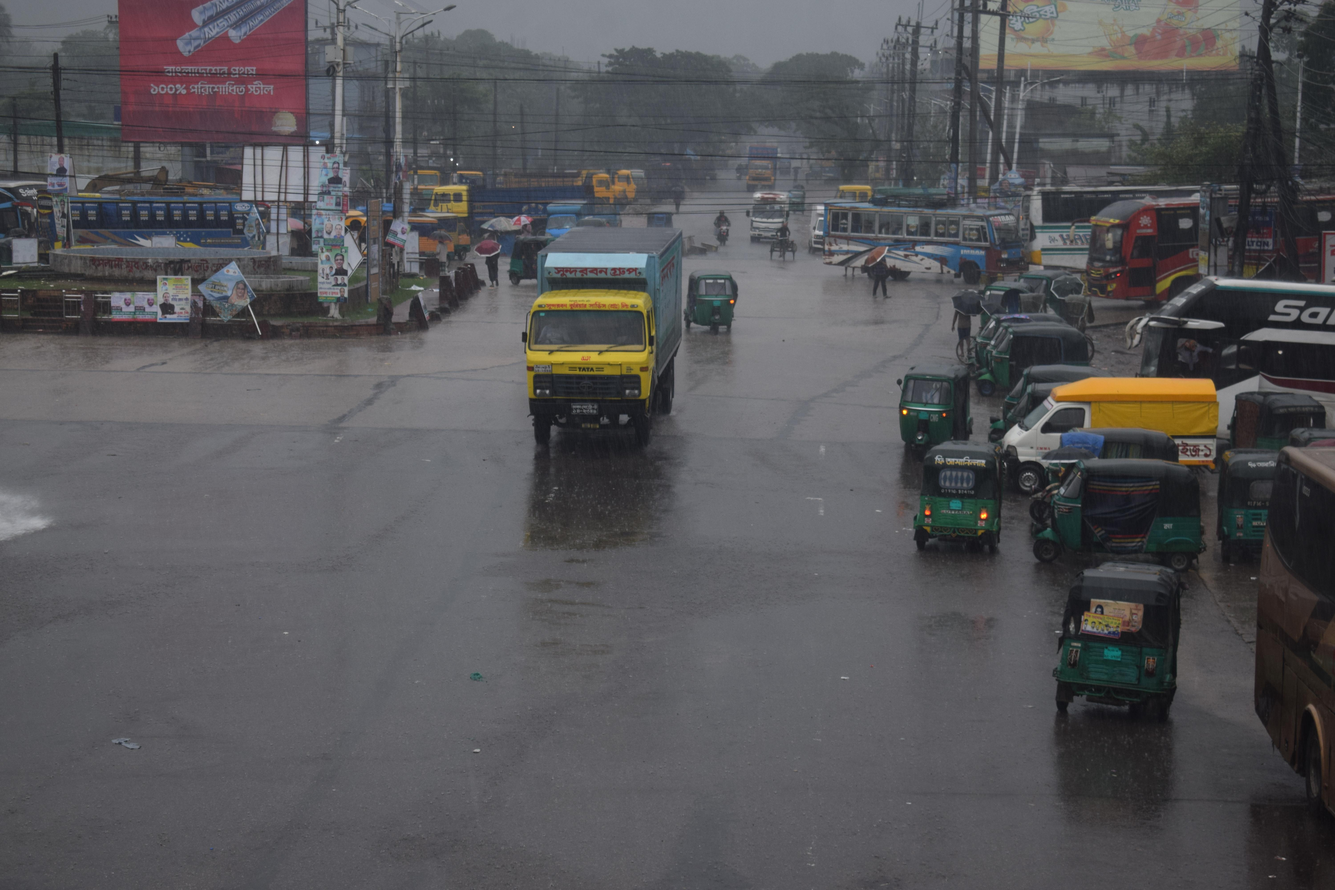Bike: (698, 197, 745, 249)
Bus: (1218, 410, 1335, 812), (1069, 170, 1335, 330), (1108, 249, 1335, 417), (14, 166, 282, 303), (807, 181, 1043, 317), (1014, 153, 1242, 275)
Car: (724, 168, 801, 271)
Truck: (483, 211, 720, 501), (399, 161, 612, 236)
